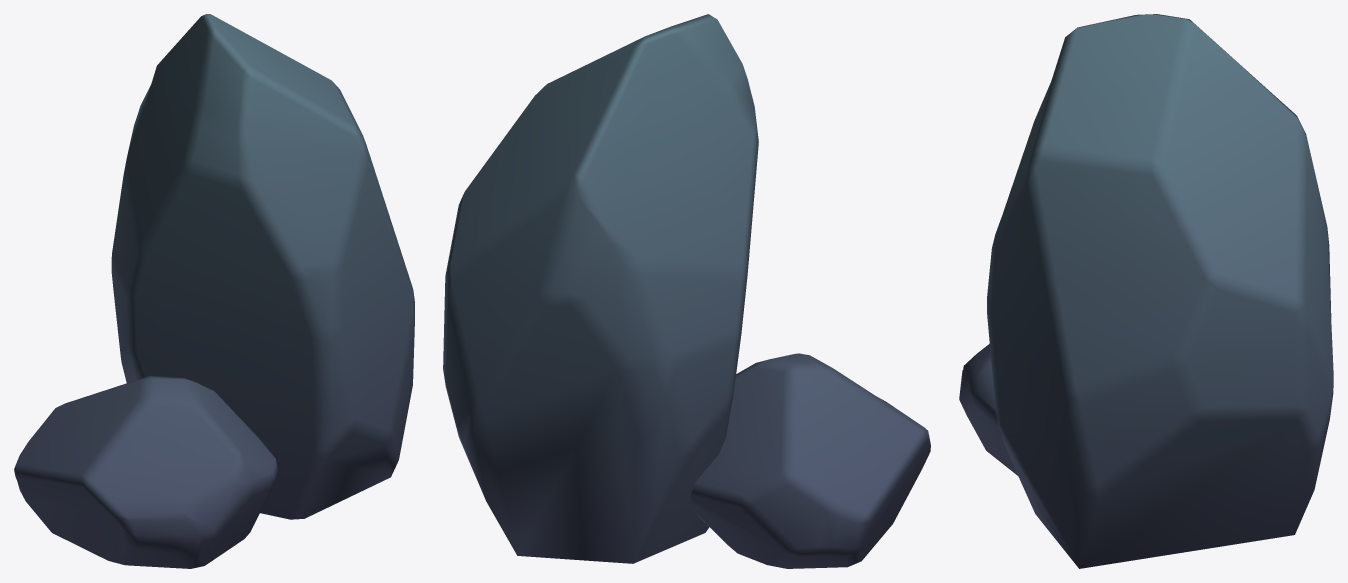
The model's file is Coal_Ore_05_lvl .fbx.
3 views of the same model, side by side, from view 1: azimuth 30°, elevation 25°; view 2: azimuth 150°, elevation 25°; view 3: azimuth 270°, elevation 25° (orthographic). The views are drawn at different scales.
Visible parts, largest first — view 1: Icosphere.020; view 2: Icosphere.020; view 3: Icosphere.020.
Part boxes in pixels (<box>): Icosphere.020: <box>14,14,414,568</box>; Icosphere.020: <box>443,14,930,568</box>; Icosphere.020: <box>959,14,1333,568</box>.
Size of the model in its own units: 158 by 188 by 132.
